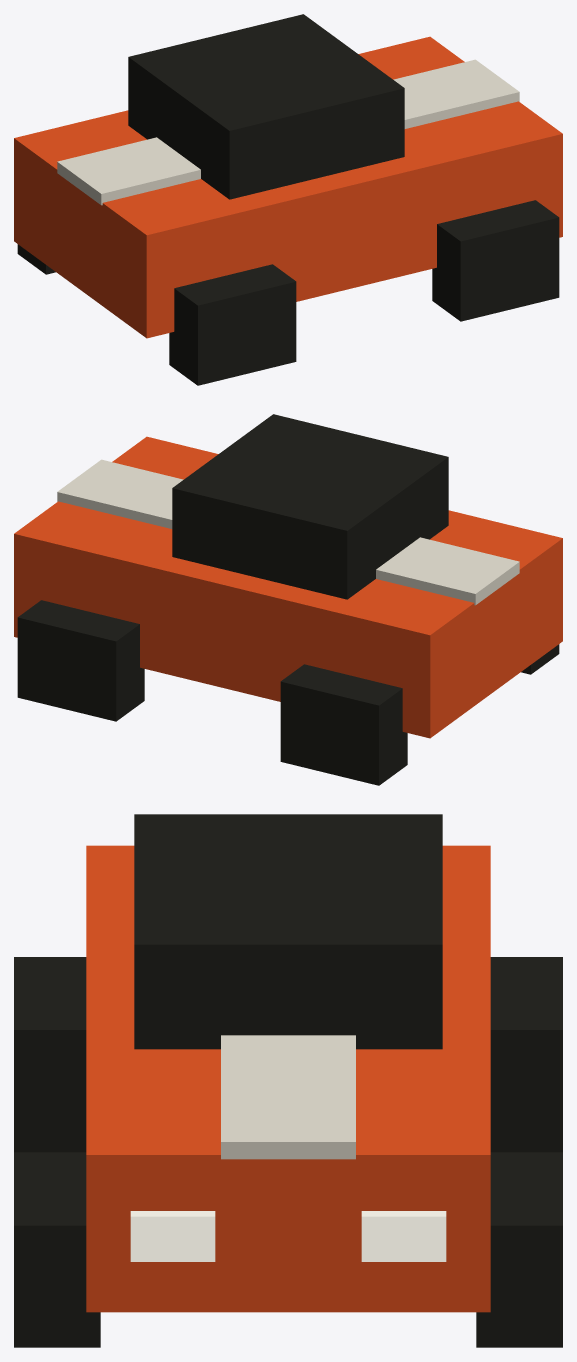
File: wizard-nos-screenprint-car-v1.glb
3 views of the same model, one above another, from view 1: azimuth 30°, elevation 25°; view 2: azimuth 150°, elevation 25°; view 3: azimuth 270°, elevation 25° (orthographic). The views are drawn at different scales.
Visible parts, largest first — view 1: Wizard of NOS · Screenprint Car; view 2: Wizard of NOS · Screenprint Car; view 3: Wizard of NOS · Screenprint Car.
Boxes of the visible parts, x1=… form: Wizard of NOS · Screenprint Car: x1=14, y1=14, x2=562, y2=385; Wizard of NOS · Screenprint Car: x1=14, y1=414, x2=562, y2=785; Wizard of NOS · Screenprint Car: x1=14, y1=814, x2=562, y2=1347.
Size of the model in its own units: 38.8 by 18.2 by 28.5.
